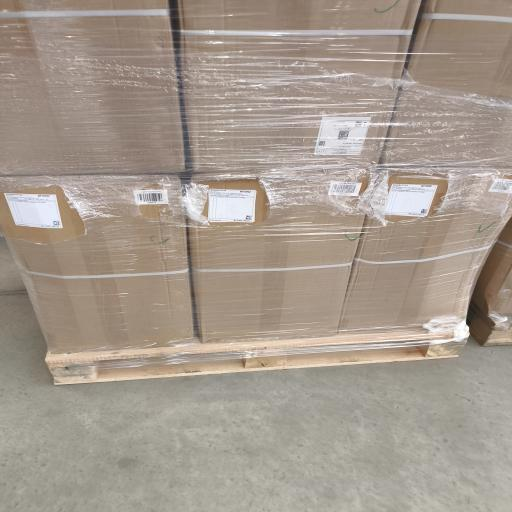pallet: (46, 331, 465, 384), (469, 313, 511, 346)
